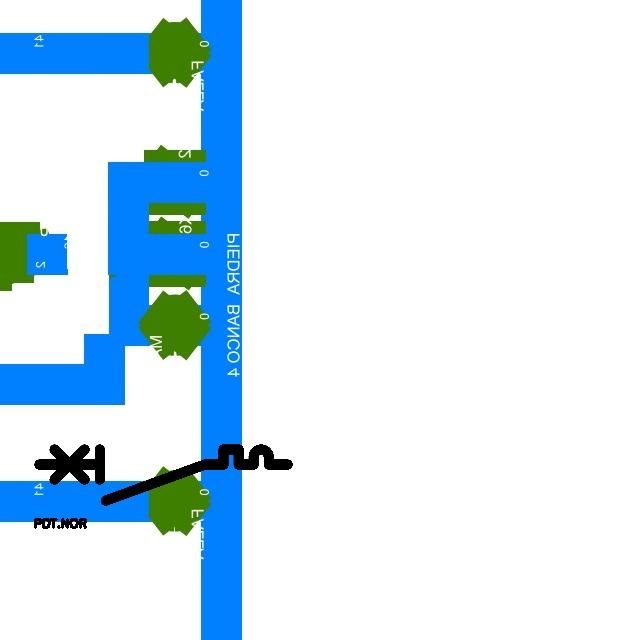interruptor_termomagnetico: (33, 443, 294, 507)
